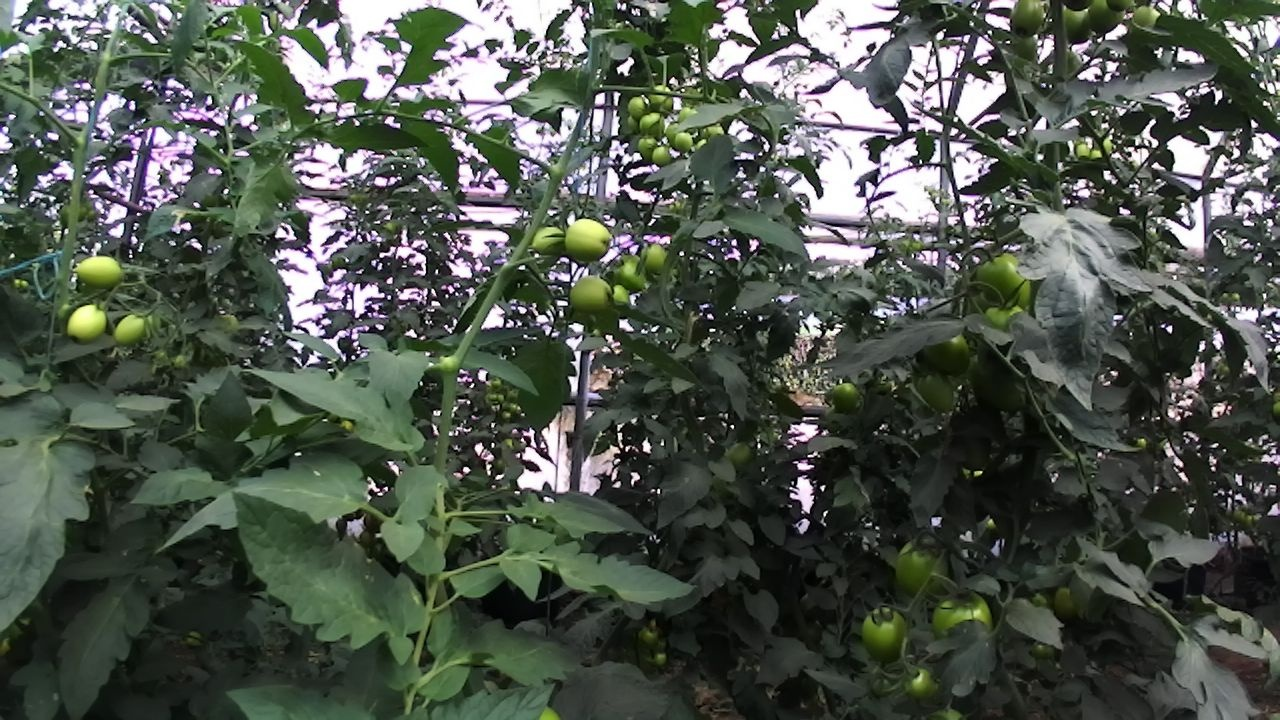tomato: (921, 574, 1011, 656), (905, 311, 991, 390), (961, 244, 1046, 321), (890, 526, 962, 608), (855, 597, 918, 670), (909, 361, 971, 426), (559, 208, 619, 272), (66, 244, 135, 298), (561, 269, 625, 324), (58, 297, 118, 354), (891, 657, 952, 709), (105, 305, 163, 356), (601, 249, 656, 302), (1000, 0, 1054, 50), (522, 214, 578, 261), (1052, 0, 1103, 49), (818, 373, 869, 422), (1079, 0, 1133, 43), (632, 237, 679, 279), (644, 79, 678, 119), (635, 108, 669, 140), (623, 92, 653, 124), (634, 133, 662, 167), (649, 143, 677, 171), (671, 129, 694, 154)
